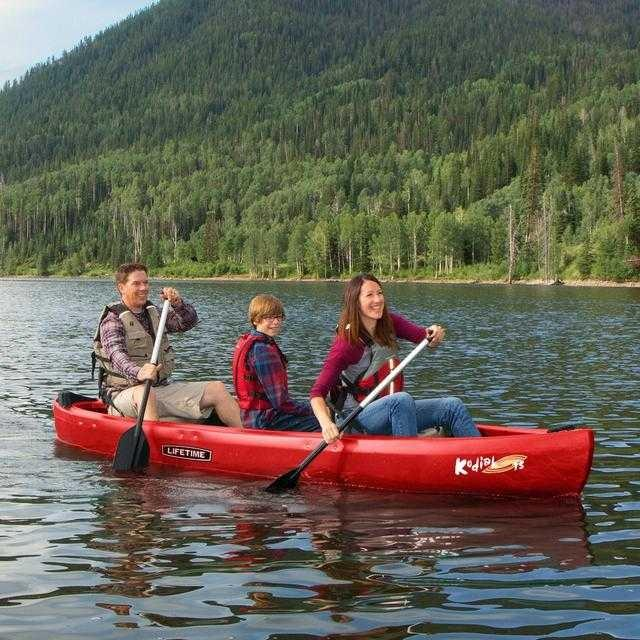kayak: (55, 398, 596, 501)
